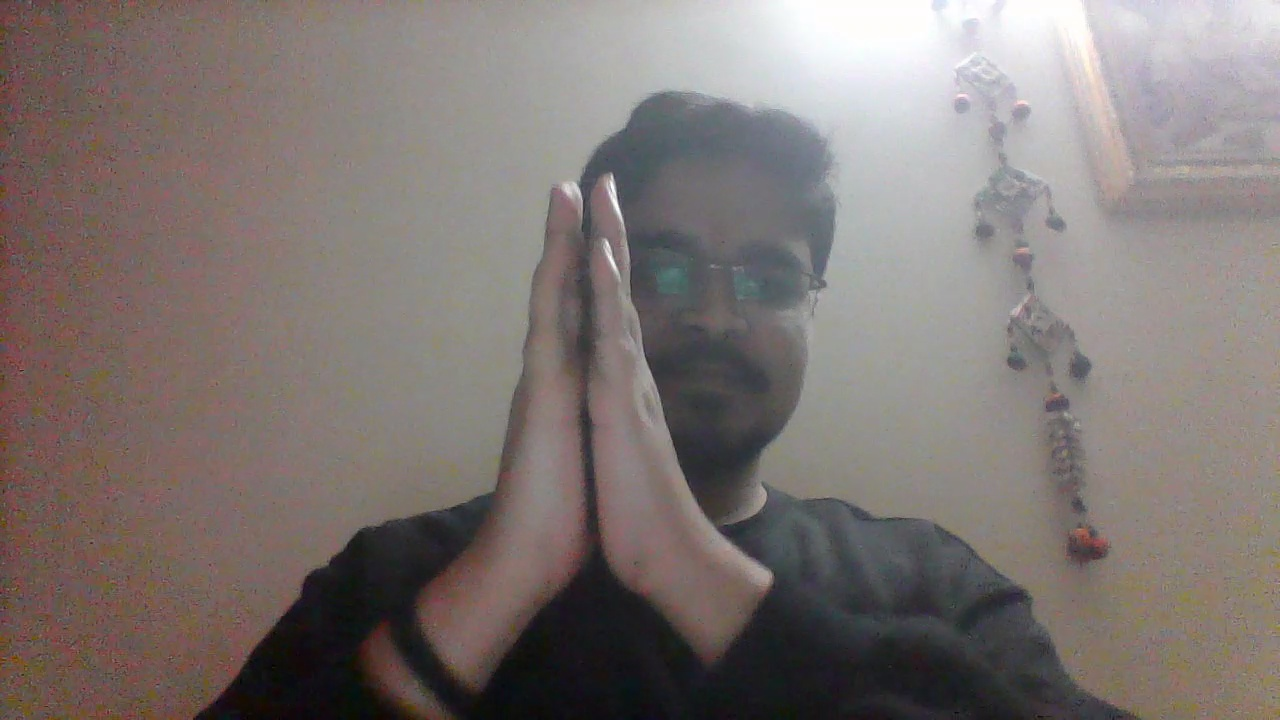Namaste: (467, 170, 726, 635)
